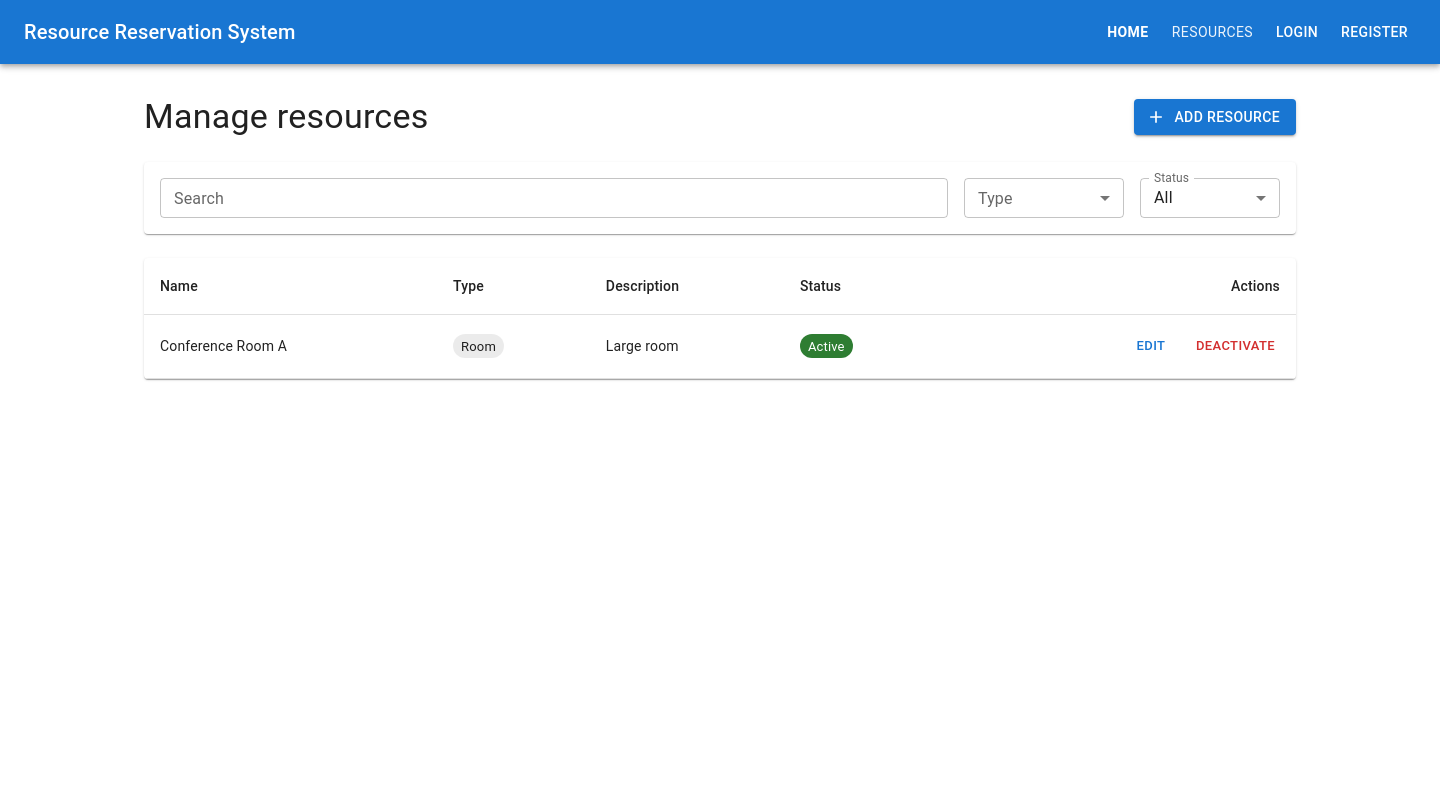
Test case: AdminResourcesPage › opens edit dialog with existing resource
expect the text "Conference Room A" is shown: met, box [144,314,437,378]
Click the button "Edit".
click(1151, 346)  # box [1119,331,1183,362]
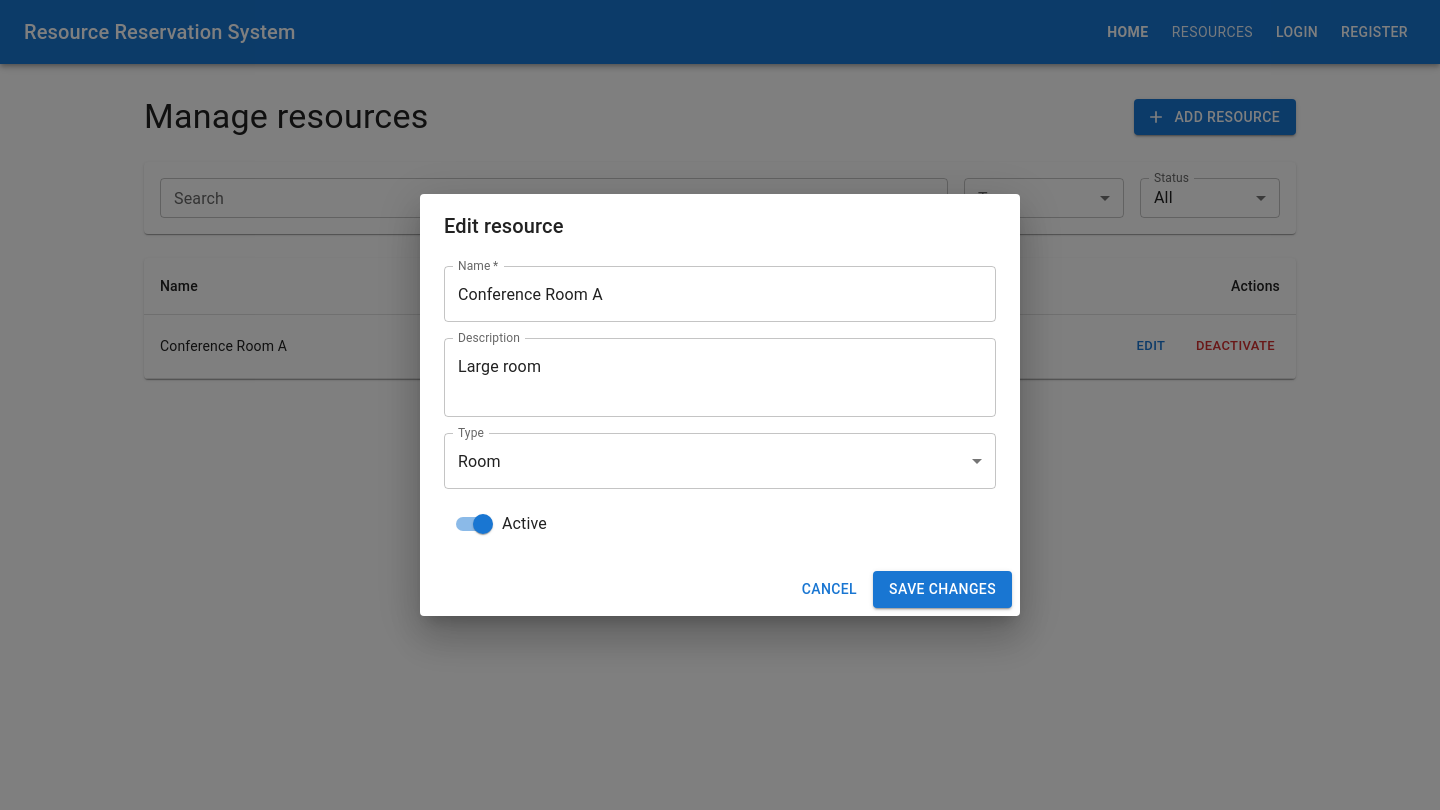
expect the heading "Edit resource" is shown: met, box [444,214,564,238]
expect the field showing "Conference Room A" is shown: met, box [444,266,996,322]
